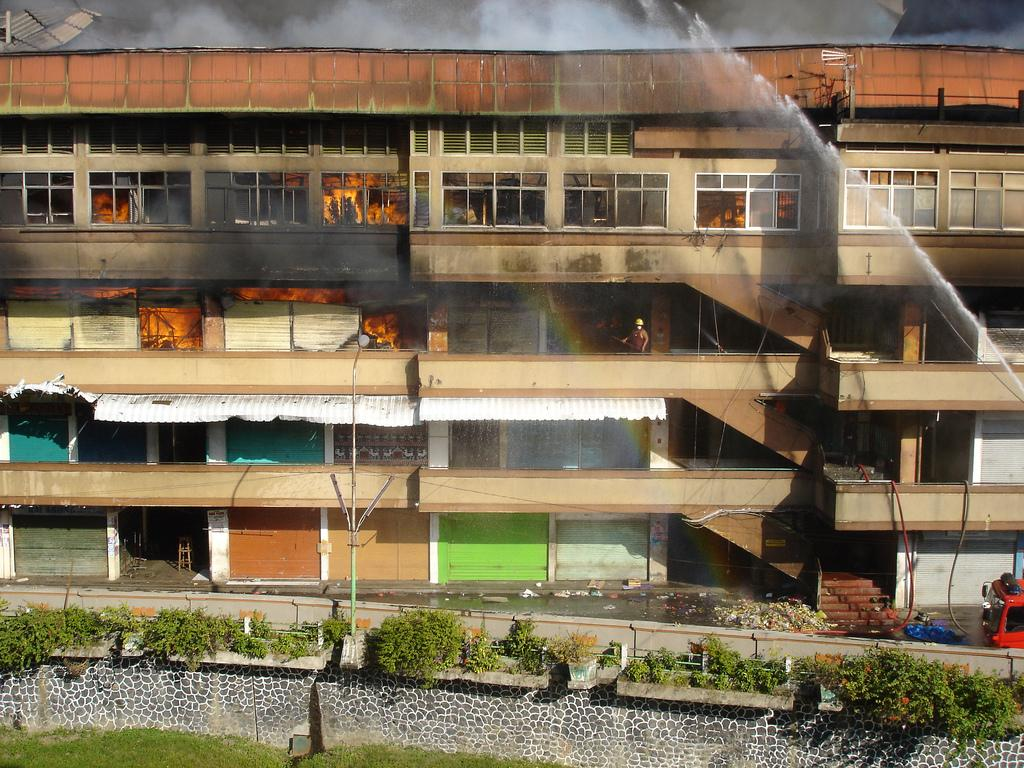fire: (144, 6, 668, 48), (316, 170, 380, 228), (138, 298, 198, 346), (252, 272, 326, 310), (358, 308, 418, 342), (94, 188, 148, 224)
